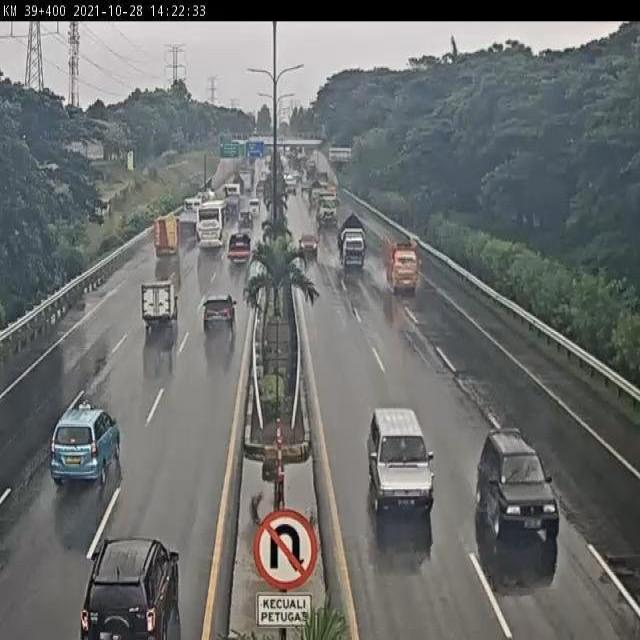big bus: (192, 203, 230, 253)
car: (475, 424, 560, 545), (367, 405, 439, 523), (51, 401, 121, 483), (204, 293, 236, 332), (298, 227, 319, 256), (233, 208, 255, 233)
truck-l-: (312, 185, 339, 227)
truck-s-: (381, 232, 418, 296), (140, 282, 179, 330), (336, 208, 366, 269), (154, 213, 182, 259), (225, 232, 251, 267)
